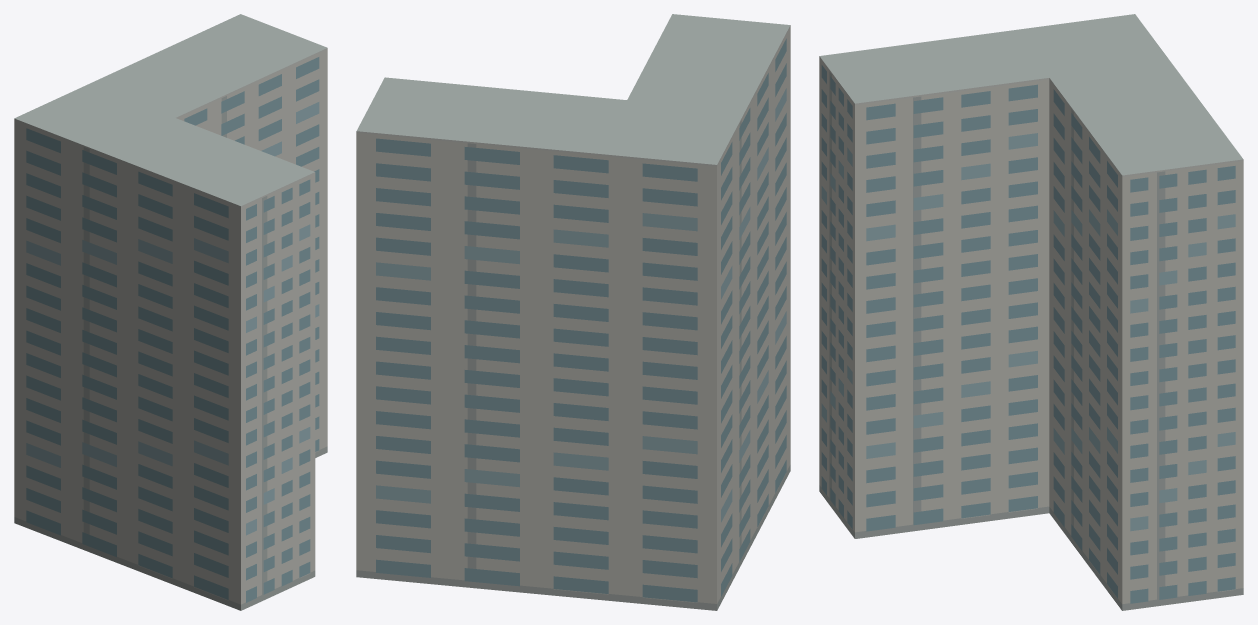
The model's file is residential-5afc57fa-7362-4d68-a3db-cf7171b00160.glb.
3 views of the same model, side by side, from view 1: azimuth 30°, elevation 25°; view 2: azimuth 150°, elevation 25°; view 3: azimuth 270°, elevation 25° (orthographic). The views are drawn at different scales.
Visible parts, largest first — view 1: residential-5afc57fa-7362-4d68-a3db-cf7171b00160.tmp; view 2: residential-5afc57fa-7362-4d68-a3db-cf7171b00160.tmp; view 3: residential-5afc57fa-7362-4d68-a3db-cf7171b00160.tmp.
Part boxes in pixels (bbox=[...]): residential-5afc57fa-7362-4d68-a3db-cf7171b00160.tmp: bbox=[14, 14, 327, 610]; residential-5afc57fa-7362-4d68-a3db-cf7171b00160.tmp: bbox=[356, 14, 790, 610]; residential-5afc57fa-7362-4d68-a3db-cf7171b00160.tmp: bbox=[819, 14, 1243, 610].
Size of the model in its own units: 53.3 by 67 by 59.16.
